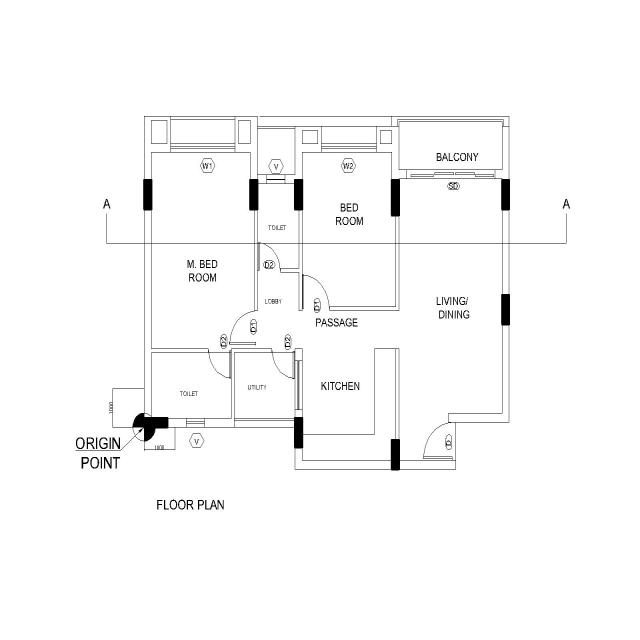Column: (390, 178, 401, 218), (142, 177, 154, 213), (293, 416, 305, 450), (500, 293, 512, 327), (248, 178, 260, 212), (142, 416, 170, 430), (390, 438, 401, 472), (500, 177, 511, 211), (293, 178, 304, 212)
Door: (447, 411, 458, 471), (298, 305, 332, 313), (253, 266, 283, 274), (270, 347, 296, 355), (254, 308, 258, 348)
Sliding Door: (405, 166, 496, 182), (207, 348, 233, 354)
Ventilator: (266, 173, 286, 186), (185, 417, 206, 429)
Window: (170, 142, 236, 154), (320, 142, 378, 154)
